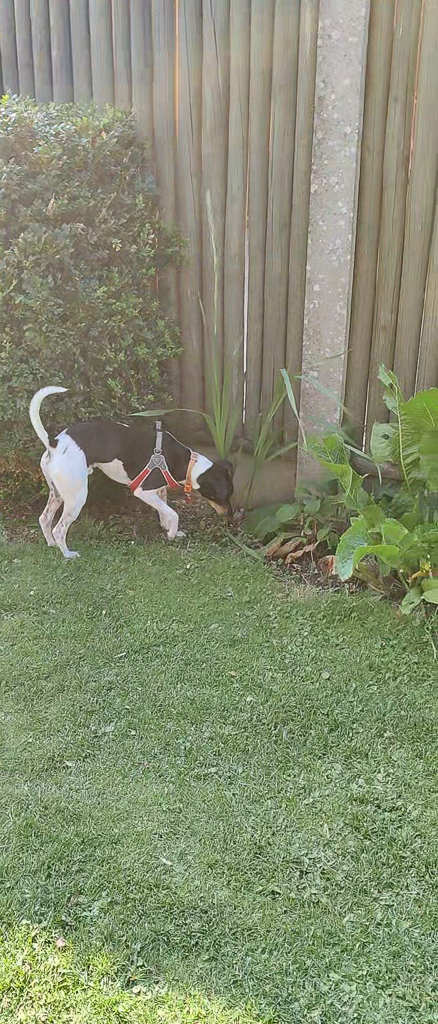Dog: (19, 371, 249, 565)
